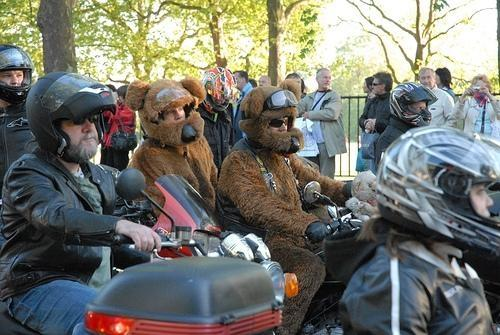motorcycle: (121, 170, 298, 300), (86, 257, 282, 329), (304, 181, 365, 234)
